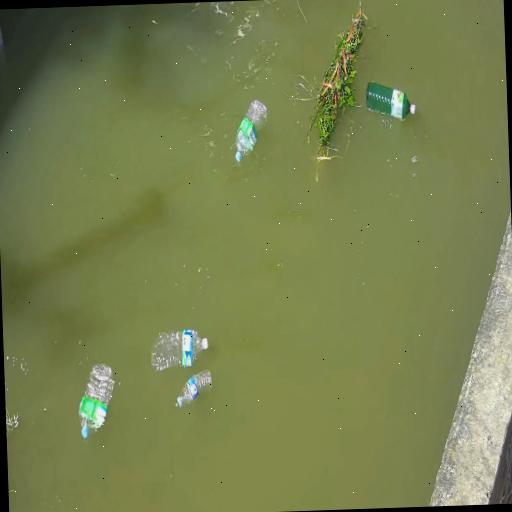plastic: (74, 352, 118, 446), (150, 320, 209, 376), (364, 80, 416, 126), (232, 98, 269, 161), (172, 367, 212, 410)
twig: (301, 6, 375, 148)
